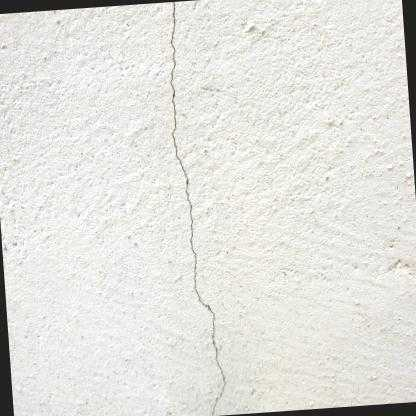crack: (170, 2, 215, 332), (212, 334, 226, 416)
